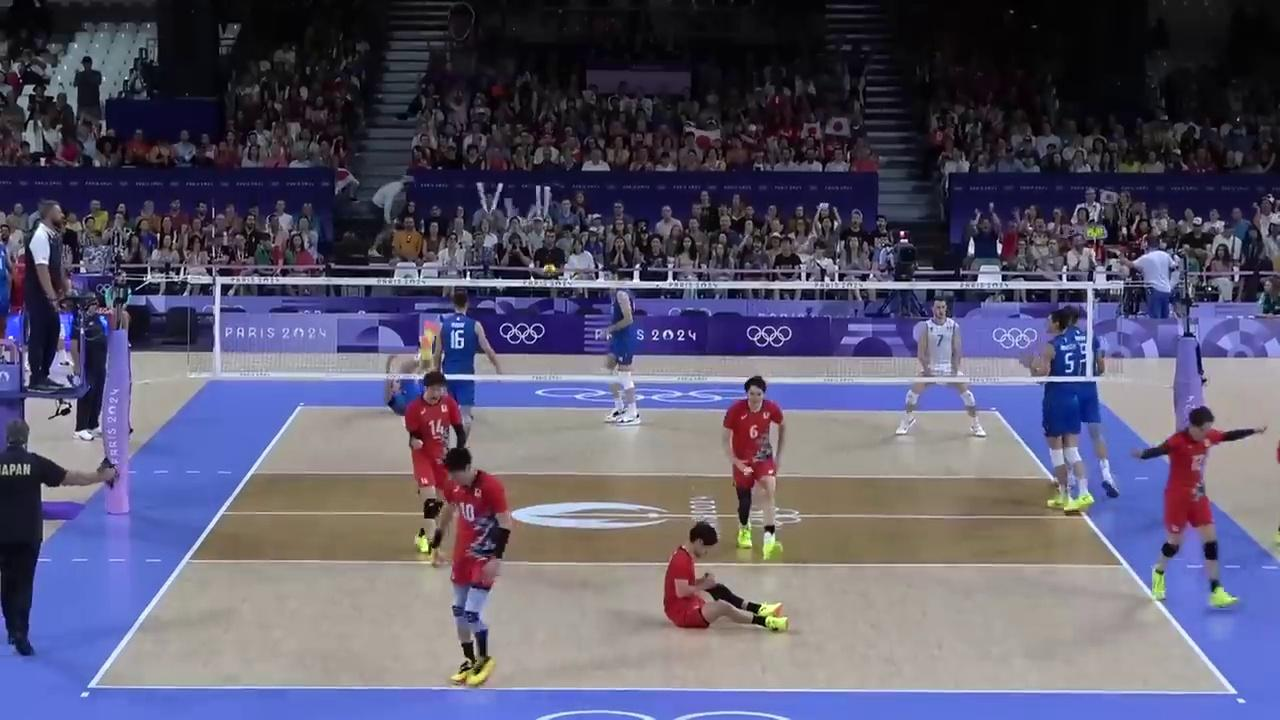ball: (542, 263, 557, 277)
